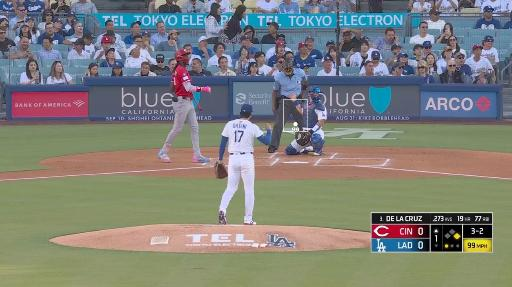pitcher: (215, 103, 273, 226)
